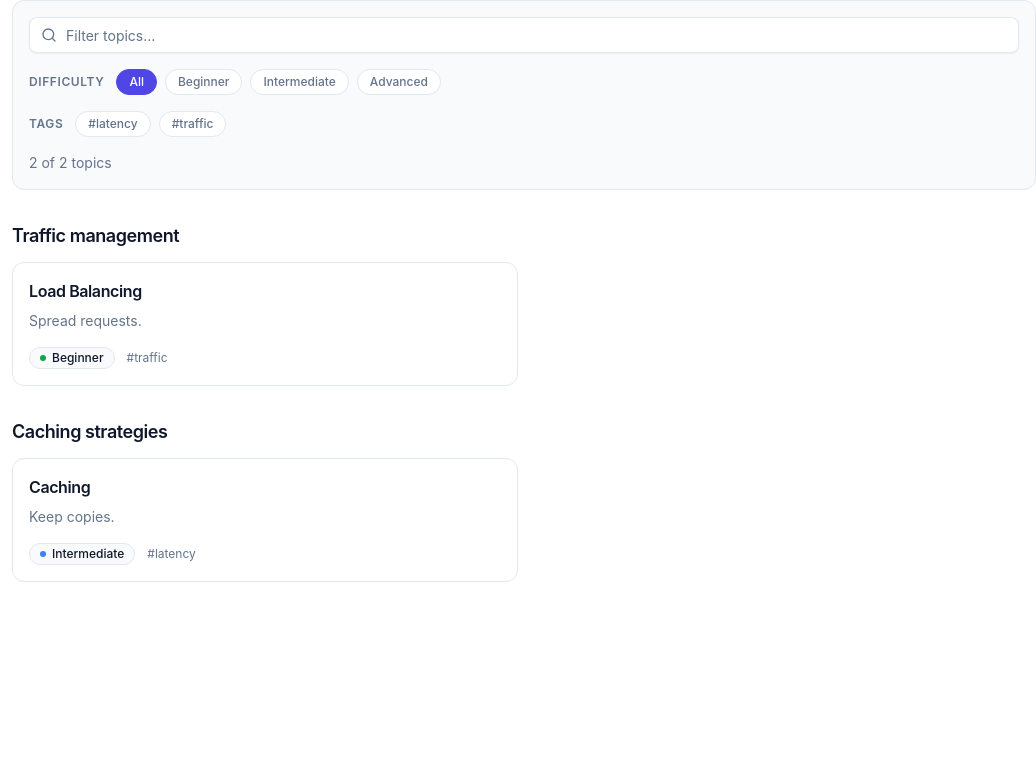
CategoryTopics › groups topics by subcategory and narrows them with the contextual filters
Expected: the text "2 of 2 topics" is shown, [29, 153, 112, 173]
Expected: the heading "Traffic management" is shown, [12, 225, 179, 246]
Click the button "Intermediate" at (300, 82), box [250, 69, 349, 95]
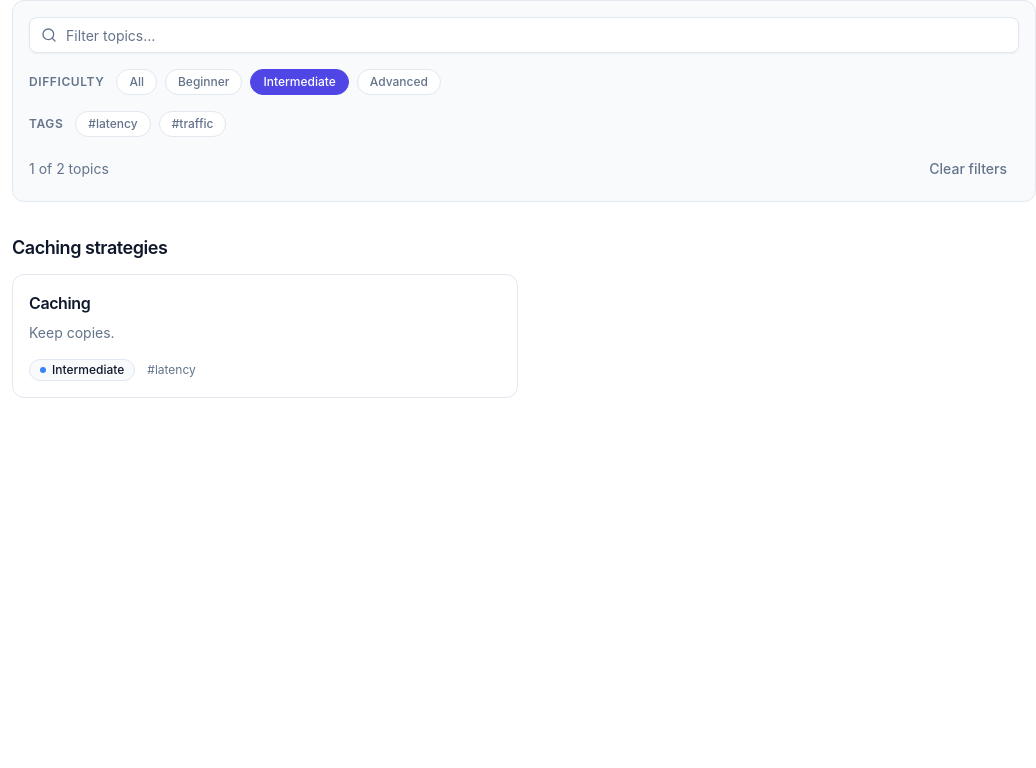
Expected: the text "1 of 2 topics" is shown, [29, 159, 109, 179]
Expected: the link "Load Balancing" is gone
Type "nothing-matches" into the search field named "Search within this category" at (524, 35), box [29, 17, 1019, 53]
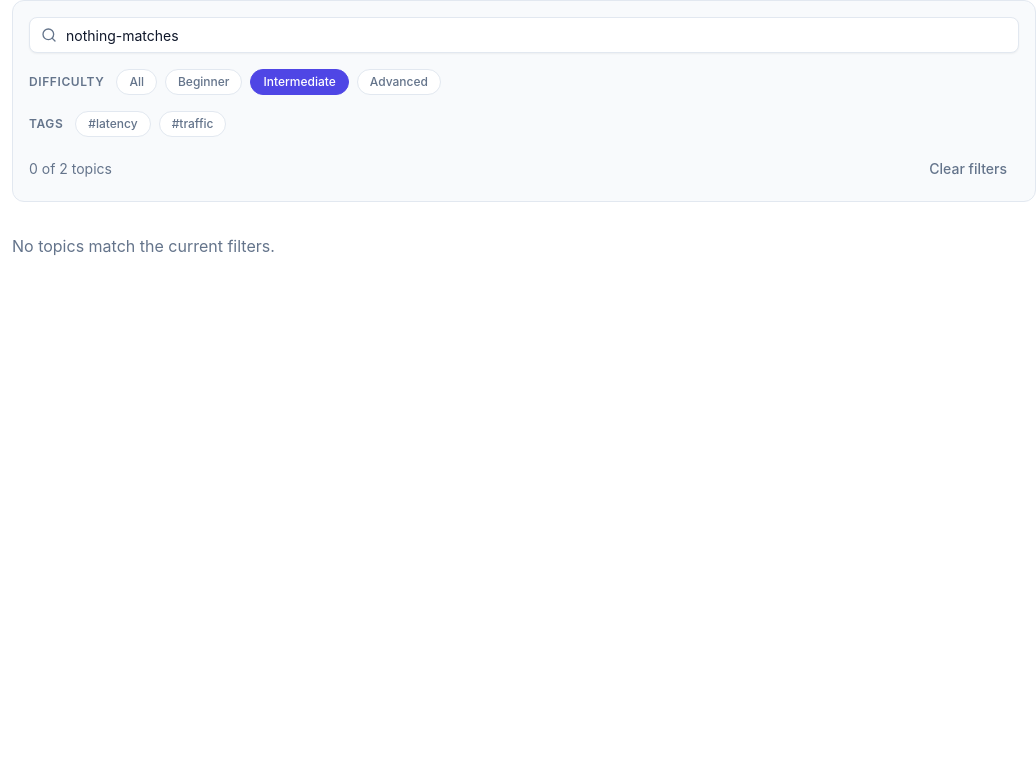
Expected: the text "No topics match the current filters." is shown, [12, 236, 275, 256]
Click the button "Clear filters" at (968, 169), box [917, 153, 1019, 185]
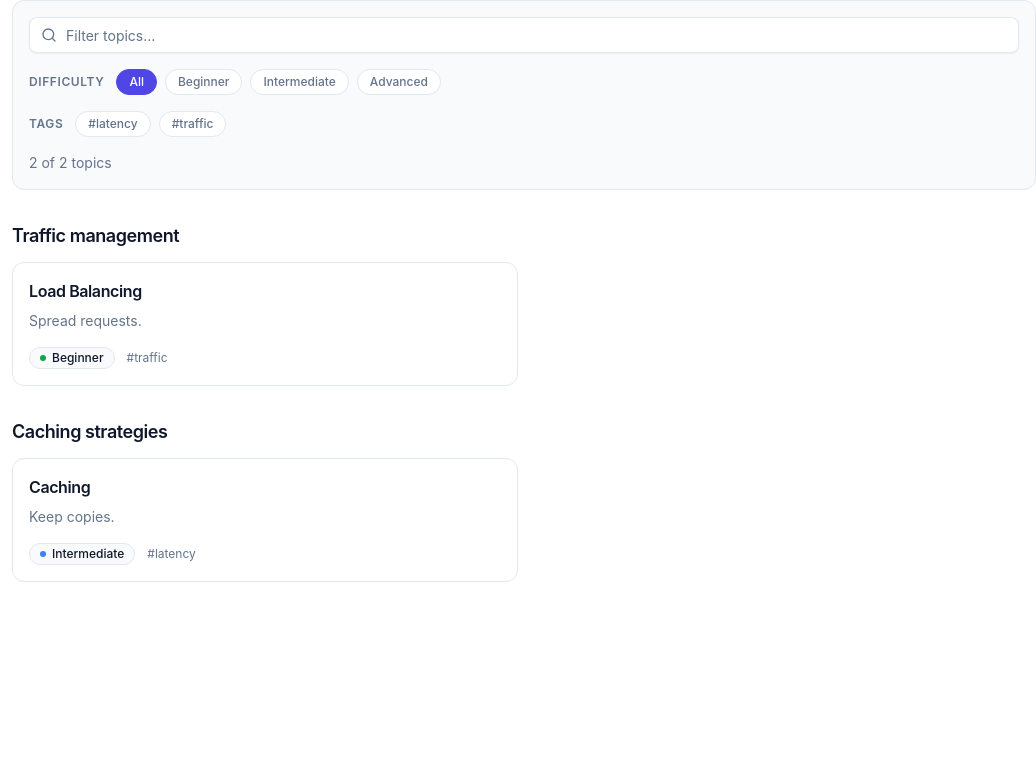
Expected: the text "2 of 2 topics" is shown, [29, 153, 112, 173]
